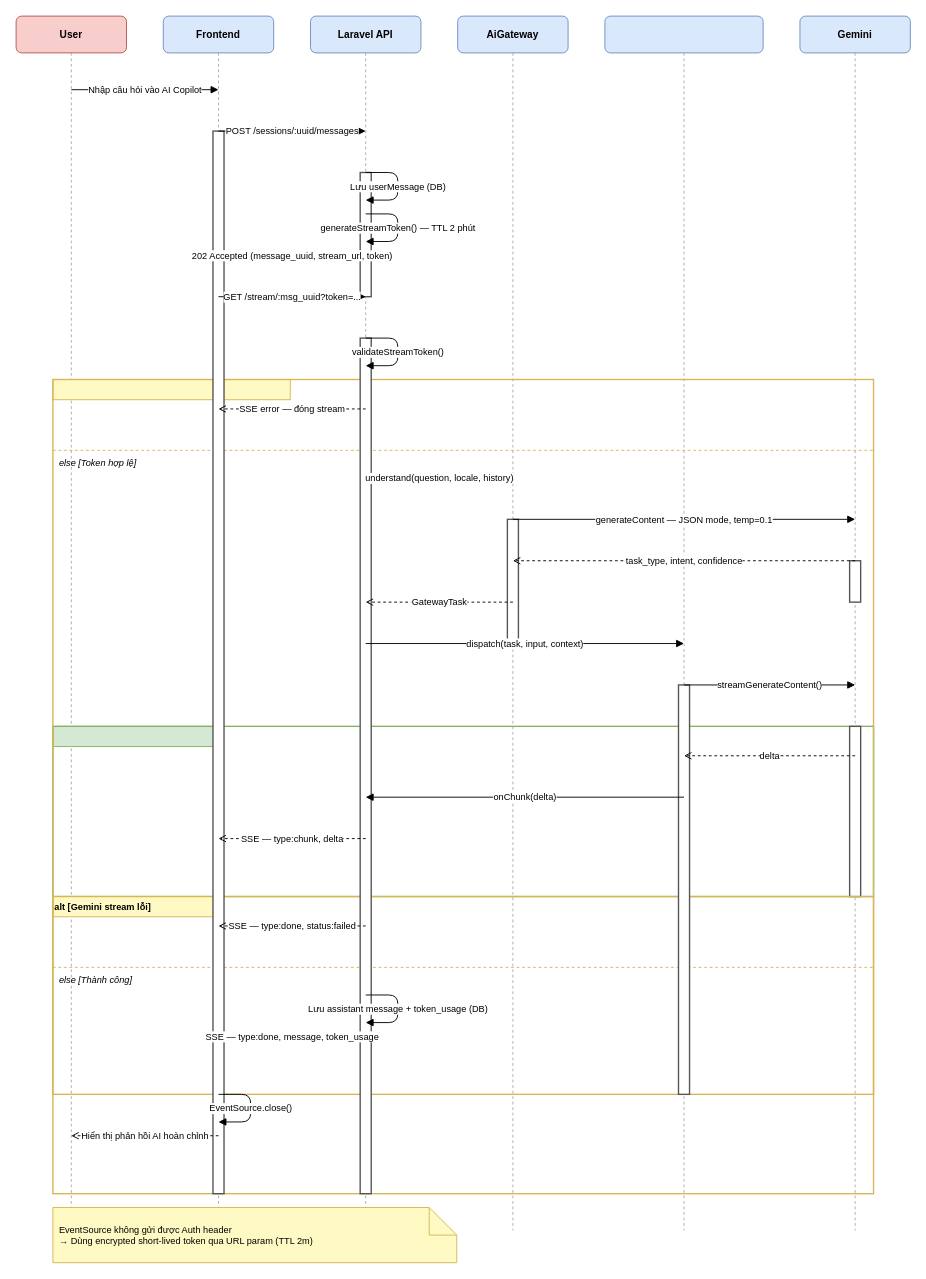
Image size: 926x1279. Some labels were removed from this diagram. The centre of each missing label's shape, as x and y in pixels:
alt [Token hết hạn / không hợp lệ]: the point at 171,389
CopilotOrchestrator: the point at 683,34
loop [Streaming chunks]: the point at 135,736
